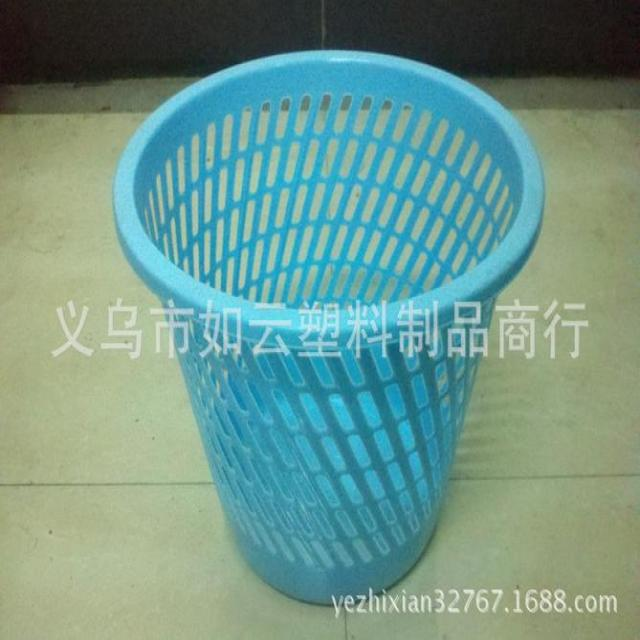Dustbin: (111, 46, 548, 608)
